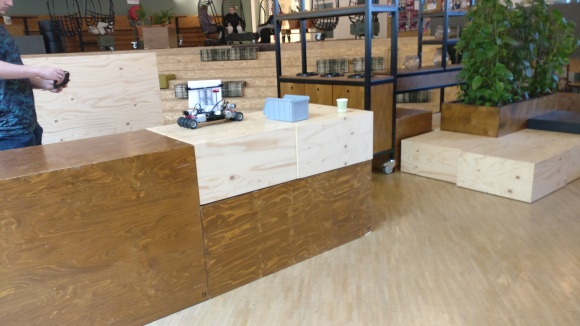cup: (335, 97, 349, 113)
tray: (262, 93, 310, 123)
